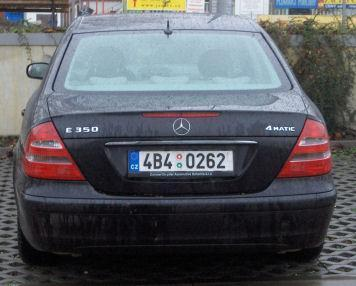placa de veiculo: (109, 142, 245, 184)
